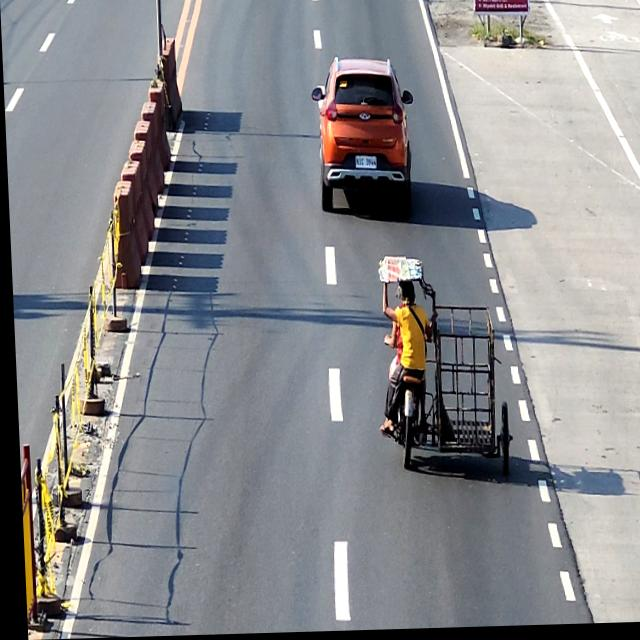Car: (310, 56, 415, 222)
License-Plate: (354, 157, 375, 172)
Tricycle: (375, 255, 509, 478)
